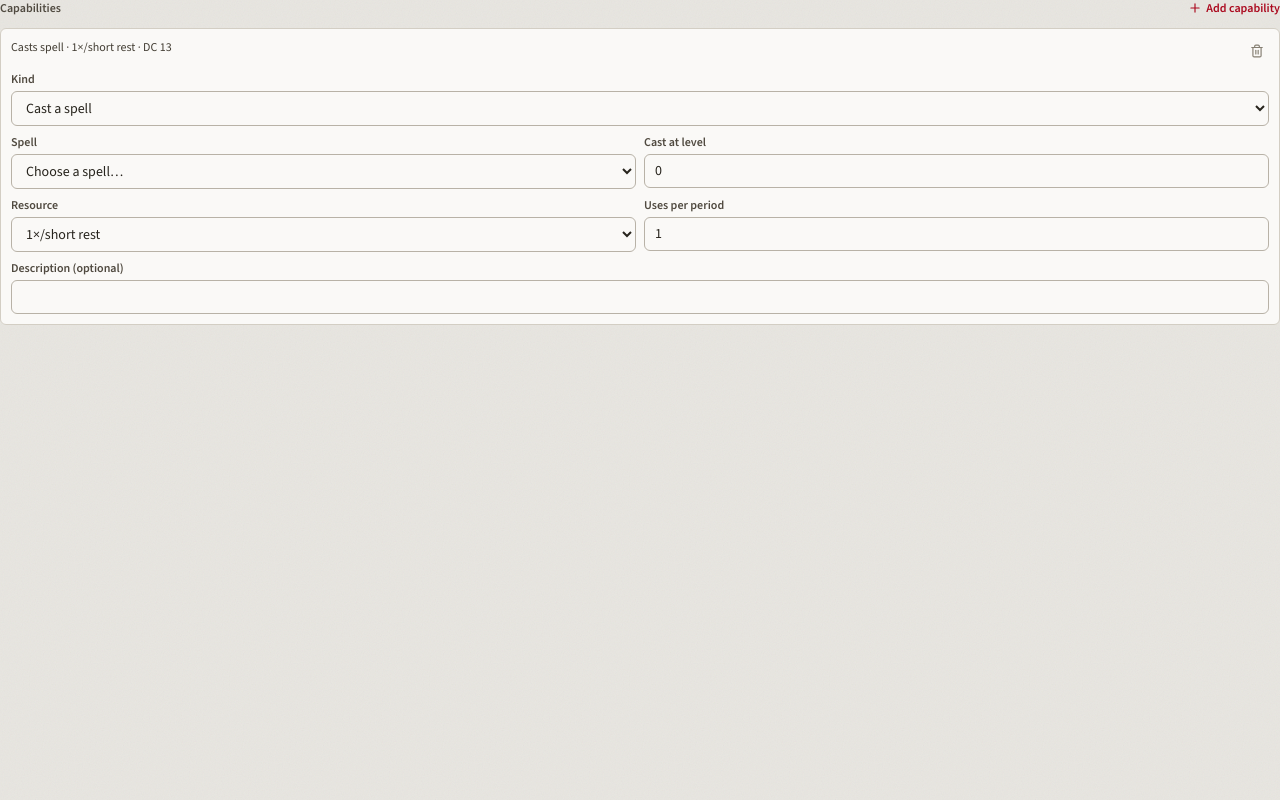
Test: CapabilityEditor — castSpell DC/attack fields are conditional on the spell › shows only Save DC for a save spell (Fireball)
This screenshot has width=1280, height=800.
Step 1. Select "Fireball (L3)" in the dropdown labelled "Spell" → coordinates (324, 172), box [11,154,636,189]
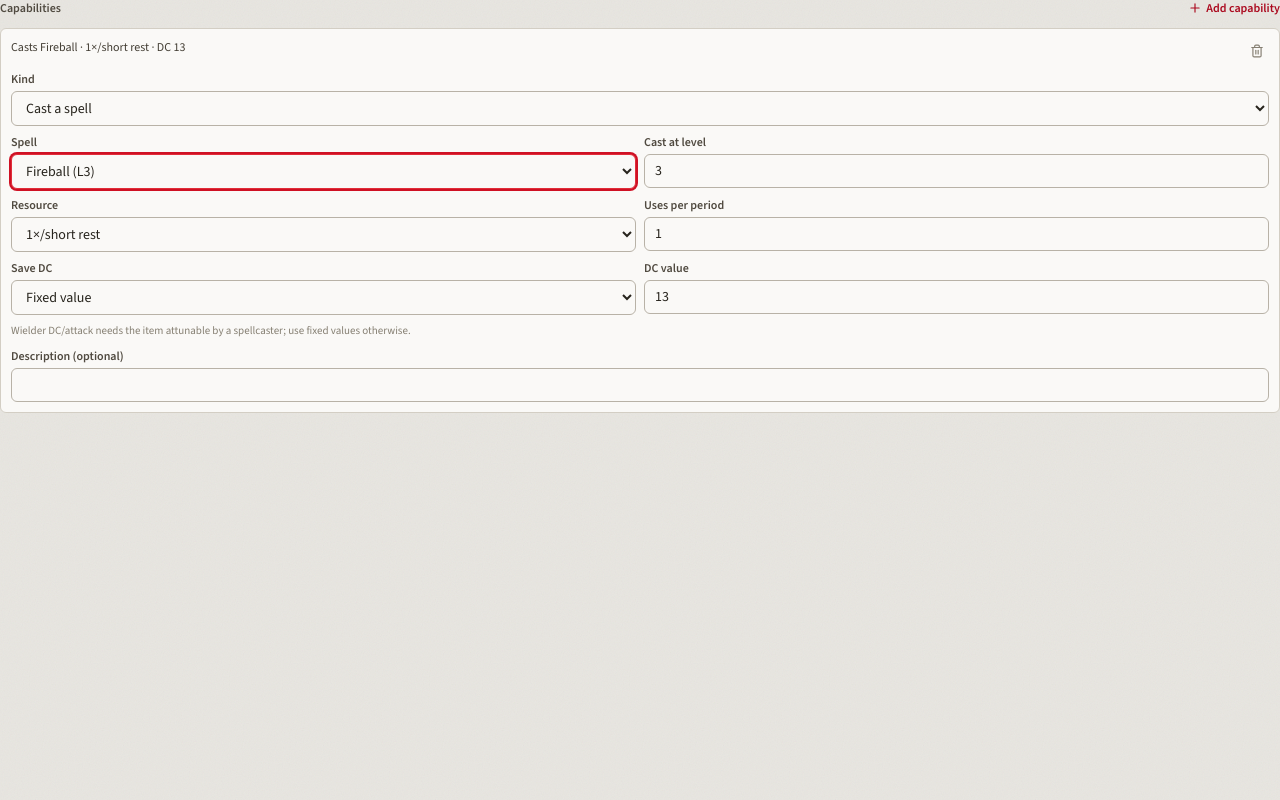
Expected: the dropdown labelled "Save DC" is shown, [11,280,636,315]
Expected: the number field labelled "DC value" is shown, [644,280,1269,314]
